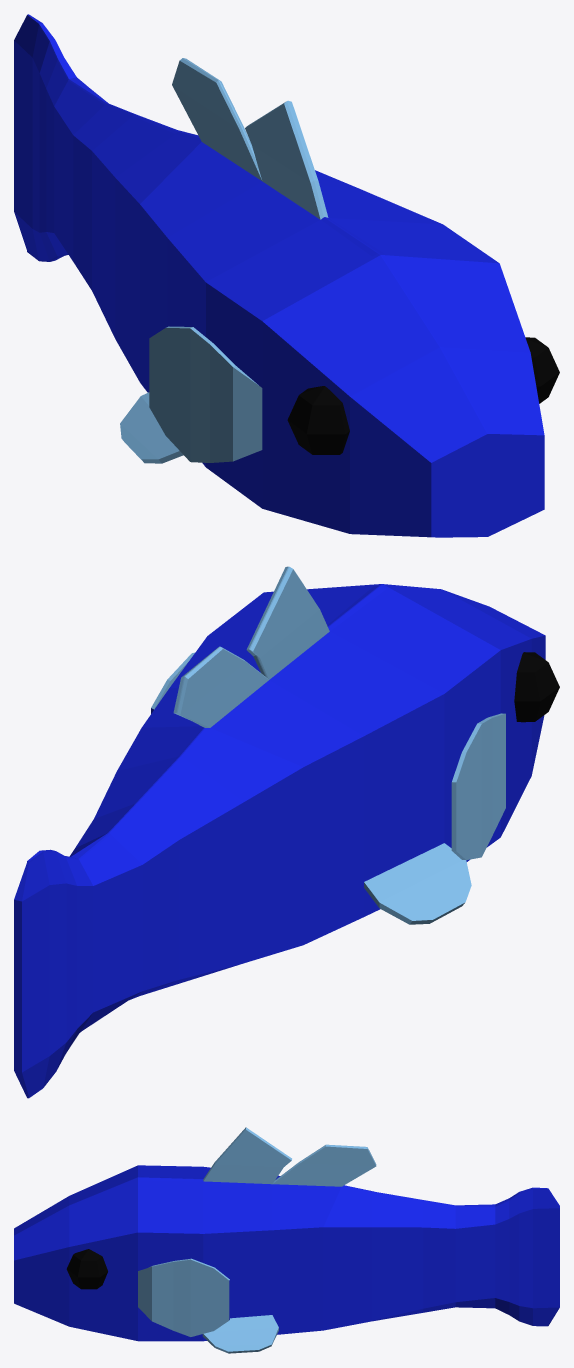
The model's file is Fih_29.fbx.
The picture shows the model from 3 angles, top to bottom: view 1: azimuth 30°, elevation 25°; view 2: azimuth 150°, elevation 25°; view 3: azimuth 270°, elevation 25°; orthographic projection. The views are drawn at different scales.
Parts seen in each view (by area): view 1: Sphere.001; view 2: Sphere.001; view 3: Sphere.001.
Part boxes in pixels (left/top/right/bottom): Sphere.001: left=14, top=14, right=559, bottom=537; Sphere.001: left=14, top=566, right=559, bottom=1098; Sphere.001: left=14, top=1127, right=559, bottom=1353.
Size of the model in its own units: 364 by 372 by 918.
